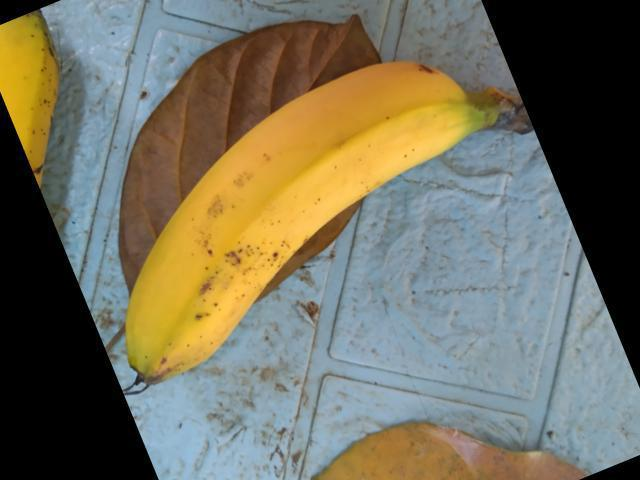ripe: (126, 72, 428, 409)
